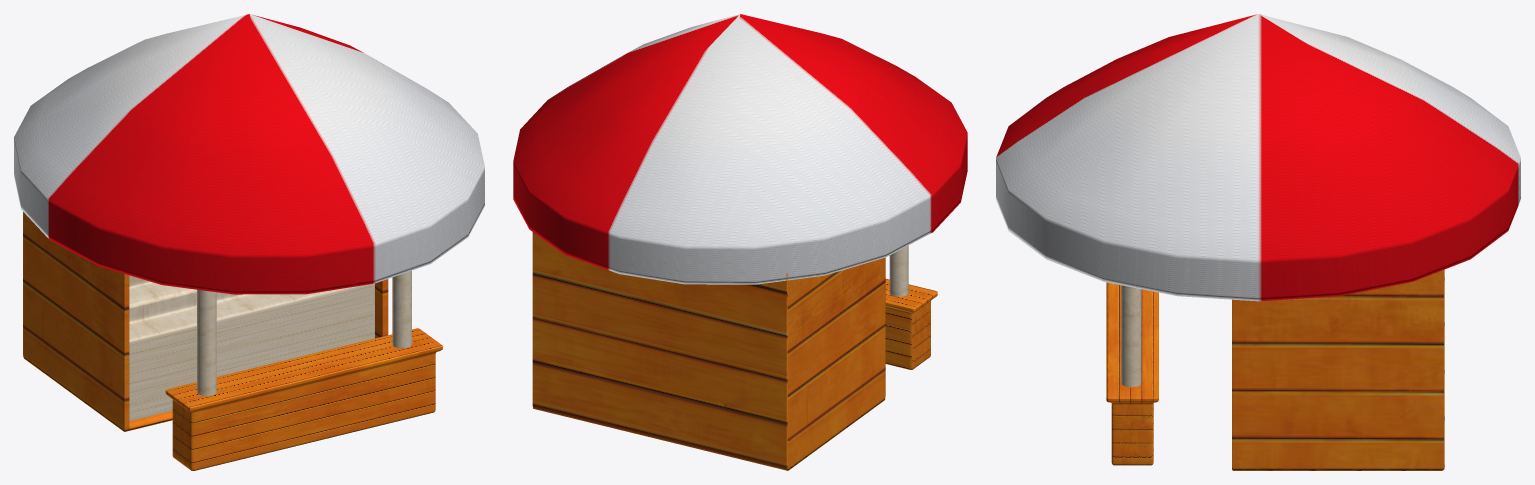
Rendered from kawaiine_stand_tir.fbx.
The picture shows the model from 3 angles, left to right: view 1: azimuth 30°, elevation 25°; view 2: azimuth 150°, elevation 25°; view 3: azimuth 270°, elevation 25°; orthographic projection. The views are drawn at different scales.
Visible parts, largest first — view 1: stand_toit, stand_comptoir, stand_tir_escalier_cibles, stand_fond, stand_poteau_02, stand_poteau_01; view 2: stand_toit, stand_fond, stand_comptoir, stand_poteau_02; view 3: stand_toit, stand_fond, stand_comptoir, stand_poteau_01.
Part boxes in pixels (left/top/right/bottom): stand_toit: left=14, top=14, right=484, bottom=294; stand_comptoir: left=165, top=328, right=442, bottom=470; stand_tir_escalier_cibles: left=129, top=275, right=374, bottom=421; stand_fond: left=23, top=212, right=388, bottom=431; stand_poteau_02: left=197, top=289, right=216, bottom=395; stand_poteau_01: left=392, top=270, right=411, bottom=348; stand_toit: left=513, top=14, right=967, bottom=284; stand_fond: left=532, top=232, right=885, bottom=470; stand_comptoir: left=885, top=279, right=937, bottom=369; stand_poteau_02: left=889, top=245, right=908, bottom=296; stand_toit: left=996, top=14, right=1520, bottom=301; stand_fond: left=1232, top=269, right=1444, bottom=470; stand_comptoir: left=1106, top=282, right=1158, bottom=465; stand_poteau_01: left=1121, top=285, right=1141, bottom=387.
Size of the model in its own units: 89.32 by 80.35 by 97.34.
Materials: 4 (4 with a texture image).
